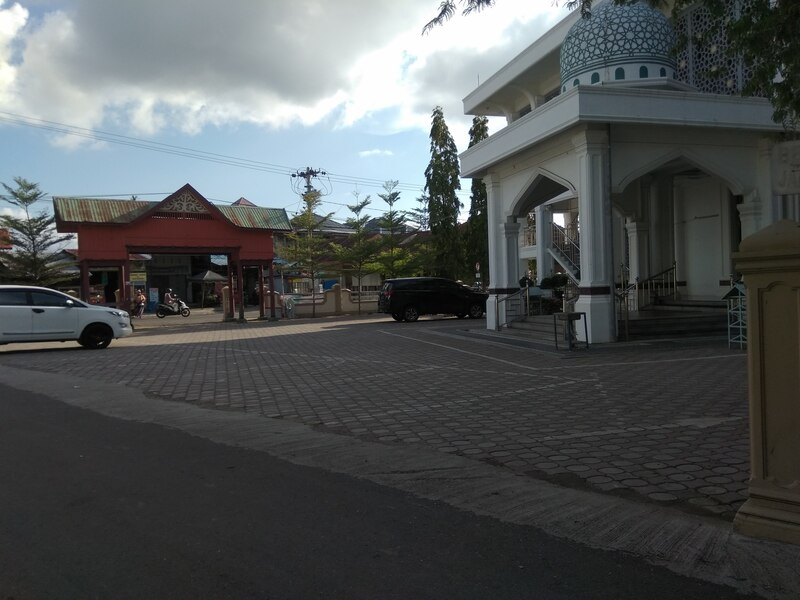car: (2, 280, 135, 355), (376, 275, 492, 326)
motorcycle: (154, 296, 192, 320)
